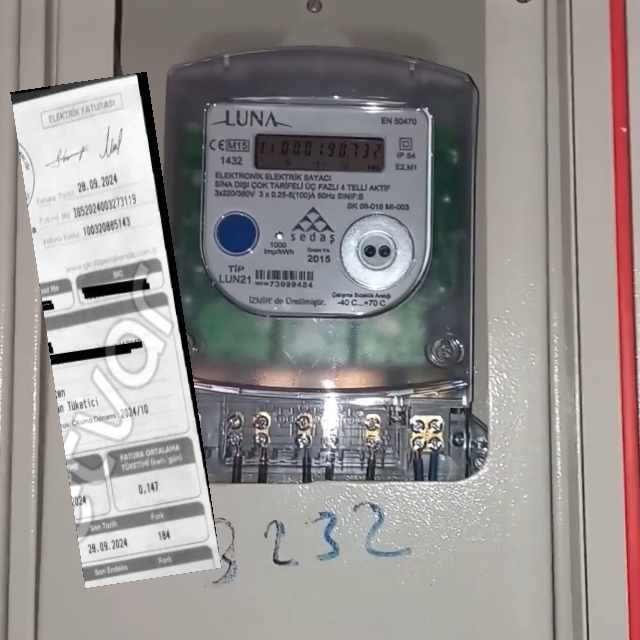electricity-bill: (10, 71, 222, 589)
